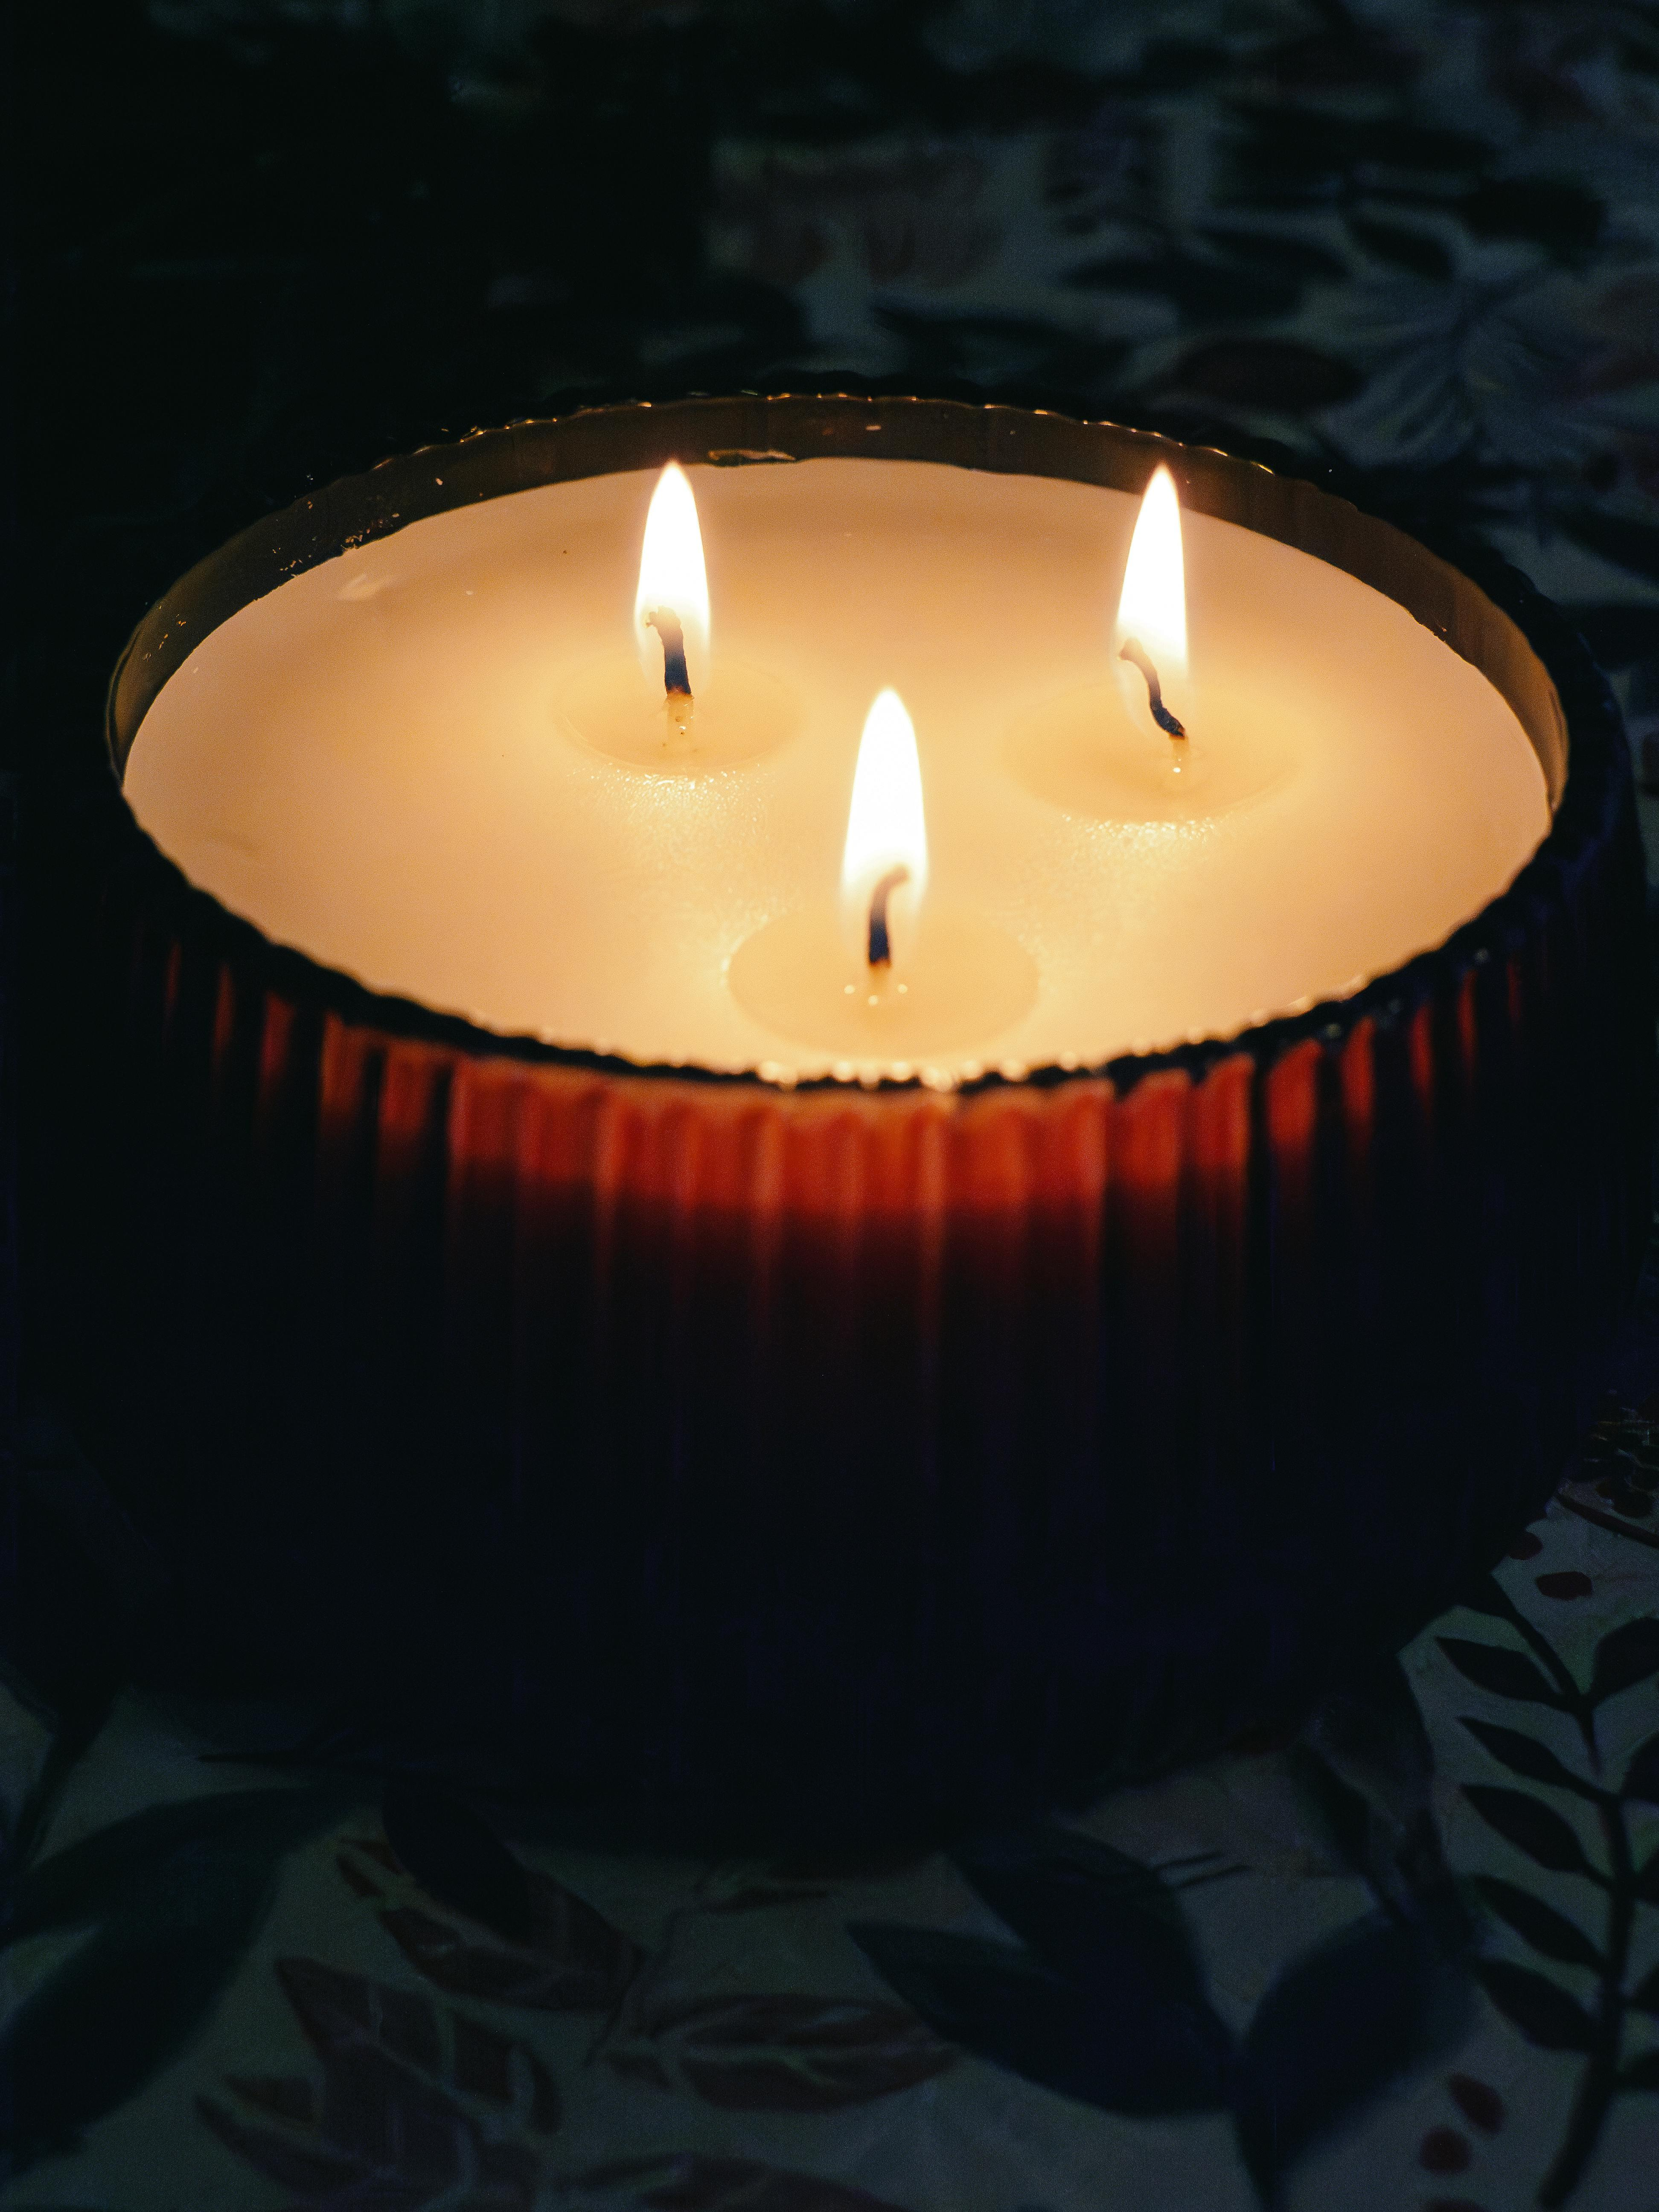Fire: (821, 679, 978, 963), (1080, 458, 1227, 714), (594, 449, 742, 685)
